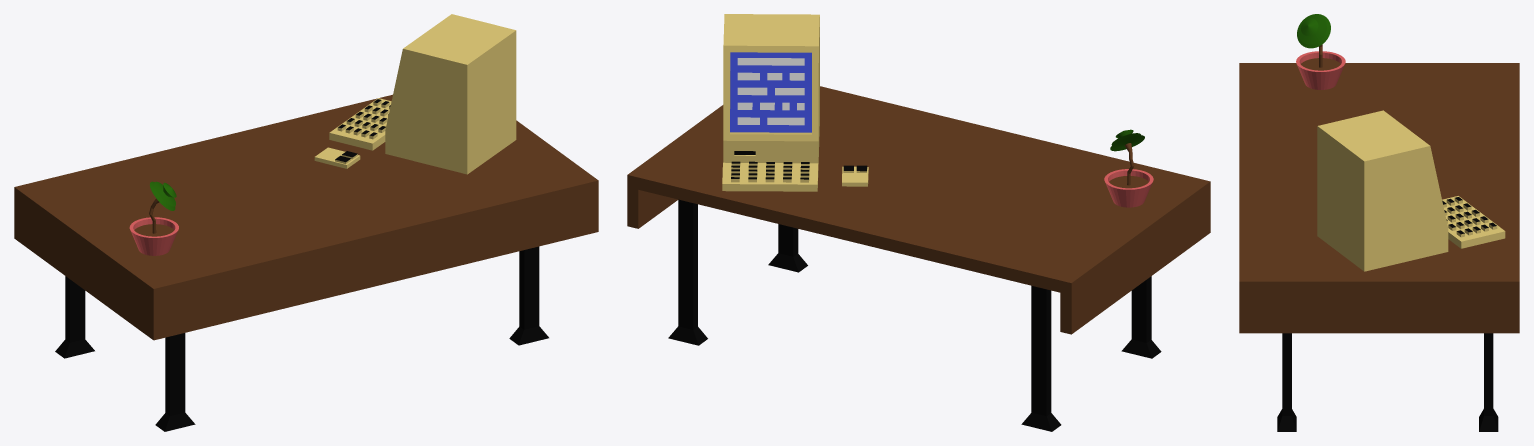
The model's file is BossDesk.fbx.
3 views of the same model, side by side, from view 1: azimuth 30°, elevation 25°; view 2: azimuth 150°, elevation 25°; view 3: azimuth 270°, elevation 25° (orthographic).
Visible parts, largest first — view 1: Boss Desk; view 2: Boss Desk; view 3: Boss Desk.
Boxes of the visible parts, x1,y1,x2,y2 form: Boss Desk: [14, 14, 598, 431]; Boss Desk: [627, 14, 1210, 431]; Boss Desk: [1239, 14, 1519, 431].
Bounding box in the file's own units: 863 × 507 × 468.
